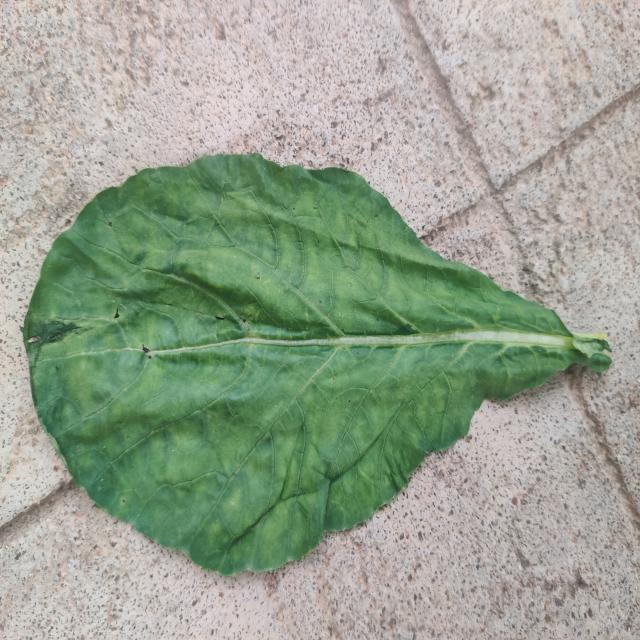raddish: (24, 153, 611, 575)
